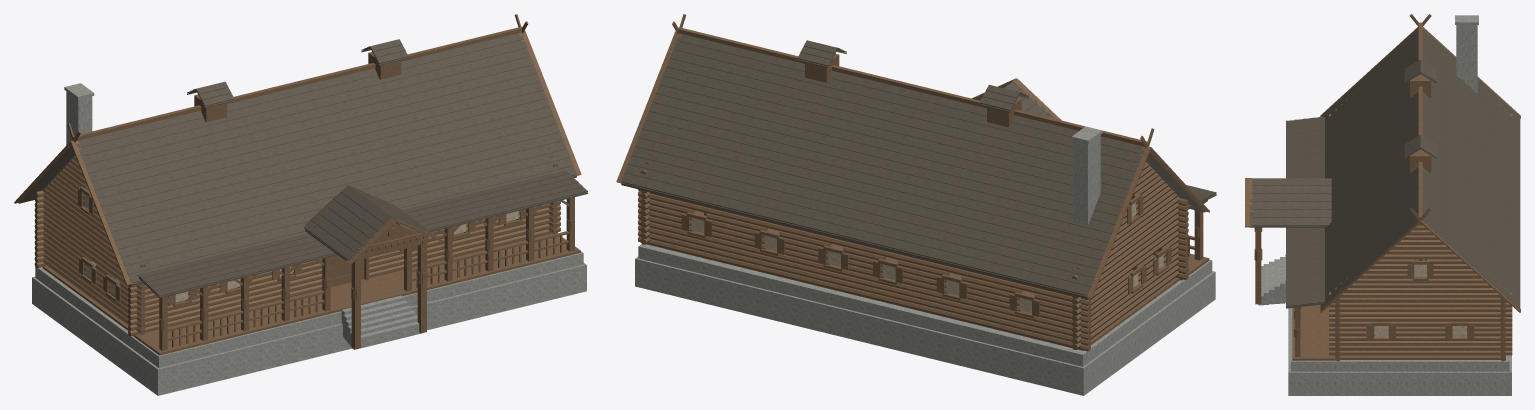
The picture shows the model from 3 angles, left to right: view 1: azimuth 30°, elevation 25°; view 2: azimuth 150°, elevation 25°; view 3: azimuth 270°, elevation 25°; orthographic projection. The views are drawn at different scales.
Visible parts, largest first — view 1: R01_roof, R01_foundation, R01_shell, R01_gable, R01_floor, R01_frame, R01_gallery, R01_railing, R01_porch, R01_flue, R01_shutter, R01_carving (+2 smaller); view 2: R01_roof, R01_foundation, R01_shell, R01_gable, R01_frame, R01_flue, R01_shutter, R01_floor, R01_window; view 3: R01_roof, R01_gable, R01_foundation, R01_frame, R01_floor, R01_flue, R01_porch, R01_shell, R01_shutter, R01_window, R01_gallery.
Boxes of the visible parts, x1,y1,x2,y2 form: R01_roof: [18, 33, 587, 298]; R01_foundation: [32, 251, 586, 395]; R01_shell: [34, 190, 560, 336]; R01_gable: [42, 125, 558, 334]; R01_floor: [42, 219, 580, 355]; R01_frame: [14, 14, 581, 306]; R01_gallery: [156, 197, 574, 350]; R01_railing: [167, 231, 568, 347]; R01_porch: [346, 217, 443, 349]; R01_flue: [64, 83, 94, 191]; R01_shutter: [78, 188, 525, 305]; R01_carving: [357, 227, 428, 256]; R01_roof: [621, 34, 1216, 298]; R01_foundation: [635, 244, 1215, 395]; R01_shell: [638, 189, 1188, 351]; R01_gable: [640, 130, 1180, 349]; R01_frame: [616, 14, 1209, 318]; R01_flue: [1071, 126, 1102, 224]; R01_shutter: [681, 196, 1171, 317]; R01_floor: [646, 228, 1209, 350]; R01_window: [691, 202, 1163, 313]; R01_roof: [1249, 29, 1520, 309]; R01_gable: [1329, 95, 1512, 355]; R01_foundation: [1258, 255, 1511, 395]; R01_frame: [1320, 14, 1520, 340]; R01_floor: [1292, 259, 1500, 360]; R01_flue: [1455, 15, 1478, 93]; R01_porch: [1245, 178, 1262, 304]; R01_shell: [1335, 296, 1505, 361]; R01_shutter: [1366, 264, 1474, 338]; R01_window: [1374, 264, 1466, 337]; R01_gallery: [1294, 307, 1300, 356].
Size of the model in its own units: 26.1 by 12.45 by 15.48.
Materials: 5 (4 with a texture image).
